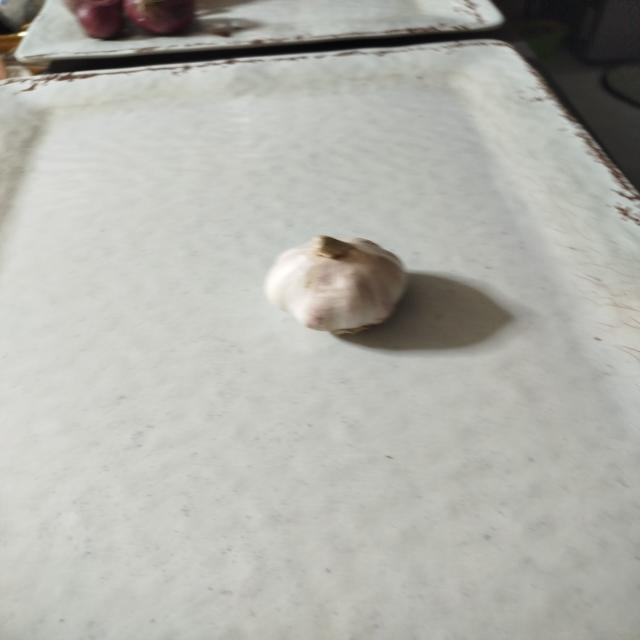garlic: (263, 234, 409, 337)
